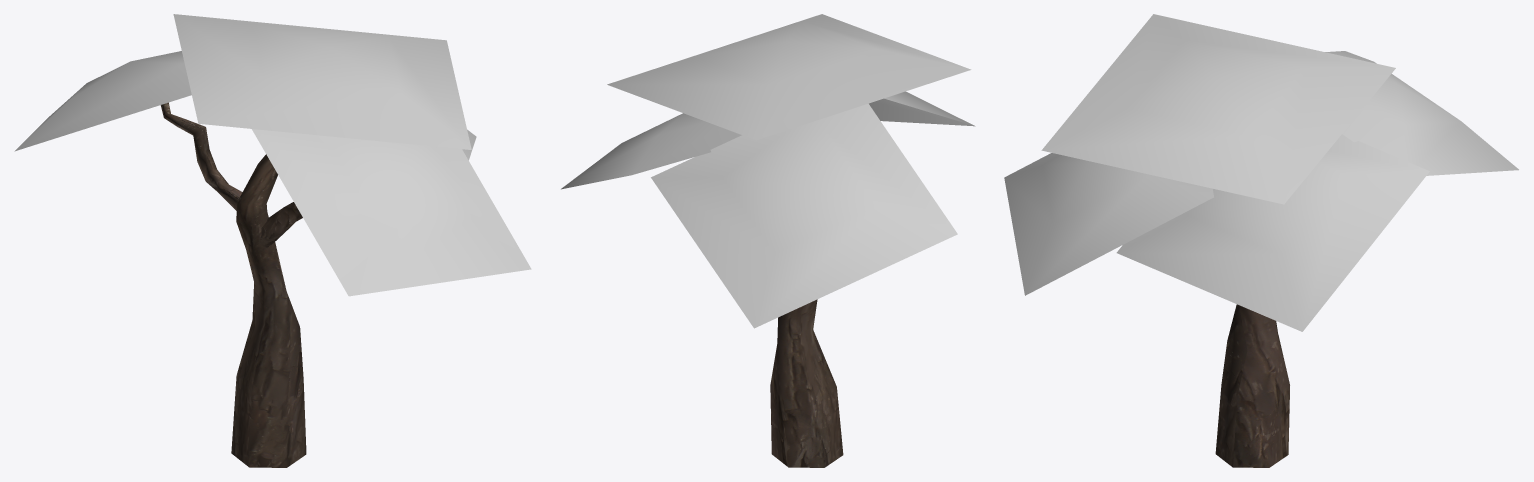
File: Tree_13_Green.FBX
3 views of the same model, side by side, from view 1: azimuth 30°, elevation 25°; view 2: azimuth 150°, elevation 25°; view 3: azimuth 270°, elevation 25° (orthographic). The views are drawn at different scales.
Visible parts, largest first — view 1: Object009, Object012; view 2: Object009, Object012; view 3: Object009, Object012.
Boxes of the visible parts, <box> form: Object009: <box>14,14,531,296</box>; Object012: <box>160,102,306,467</box>; Object009: <box>561,14,975,328</box>; Object012: <box>770,299,843,467</box>; Object009: <box>1004,14,1518,331</box>; Object012: <box>1215,304,1289,467</box>.
Size of the model in its own units: 165 by 147 by 173.
